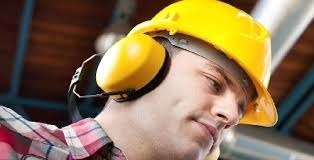helmet: (133, 1, 276, 88)
person with partial safety: (1, 1, 281, 160)
